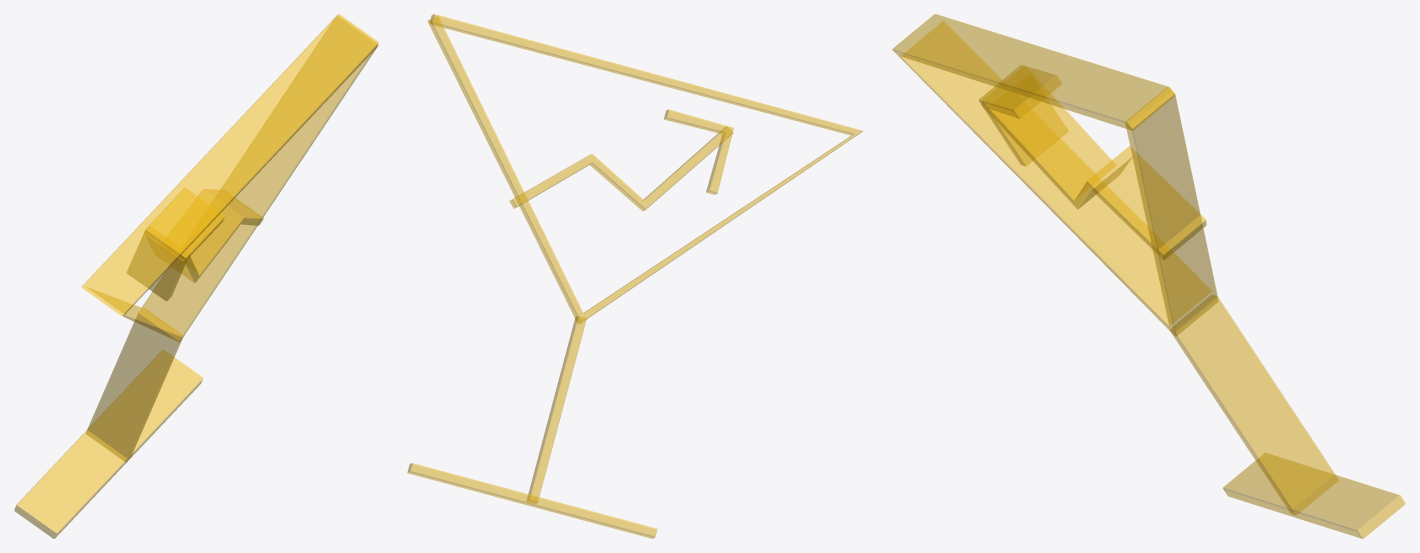
File: 3dsvg.glb
3 renders of one model, left to right at view 1: azimuth 30°, elevation 25°; view 2: azimuth 150°, elevation 25°; view 3: azimuth 270°, elevation 25°, orthographic. The views are drawn at different scales.
Size of the model in its own units: 3.67 by 4.4 by 3.69.
